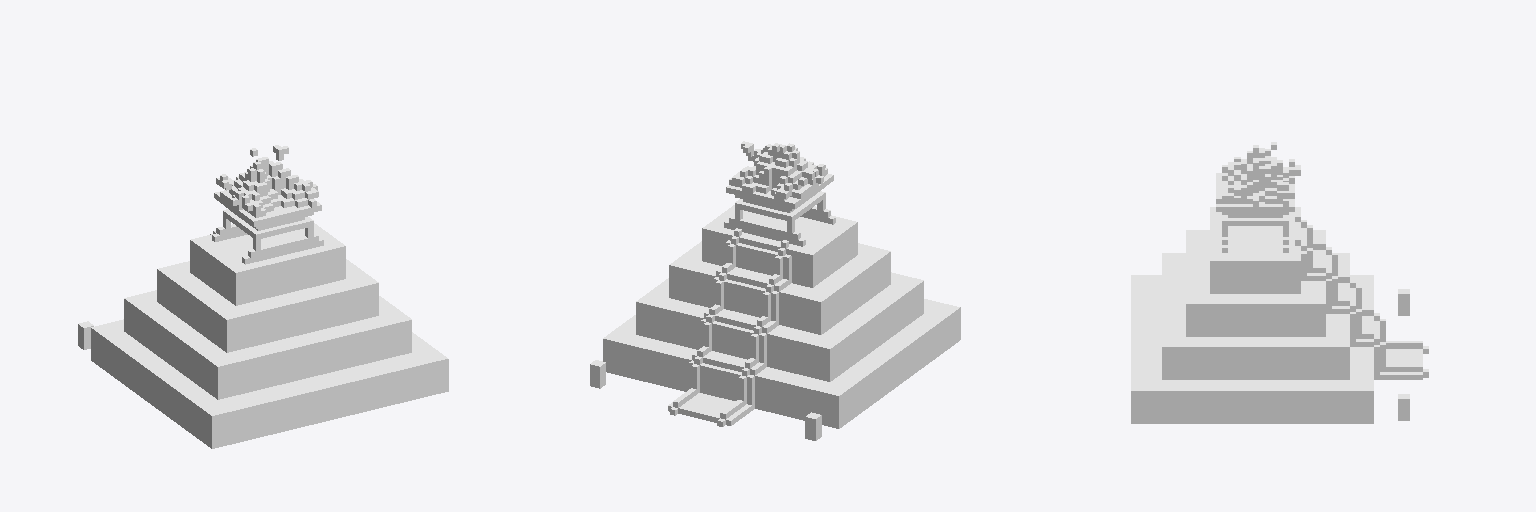
File: AztecTemple.obj
3 renders of one model, left to right at view 1: azimuth 30°, elevation 25°; view 2: azimuth 150°, elevation 25°; view 3: azimuth 270°, elevation 25°, orthographic.
Parts seen in each view (by area): view 1: object 1; view 2: object 1; view 3: object 1.
Boxes of the visible parts, box(x1,y1,x2,y2) form: object 1: box(78, 145, 448, 448); object 1: box(590, 141, 960, 440); object 1: box(1131, 142, 1428, 423).
Bounding box in the file's own units: 4.5 × 4 × 4.9.